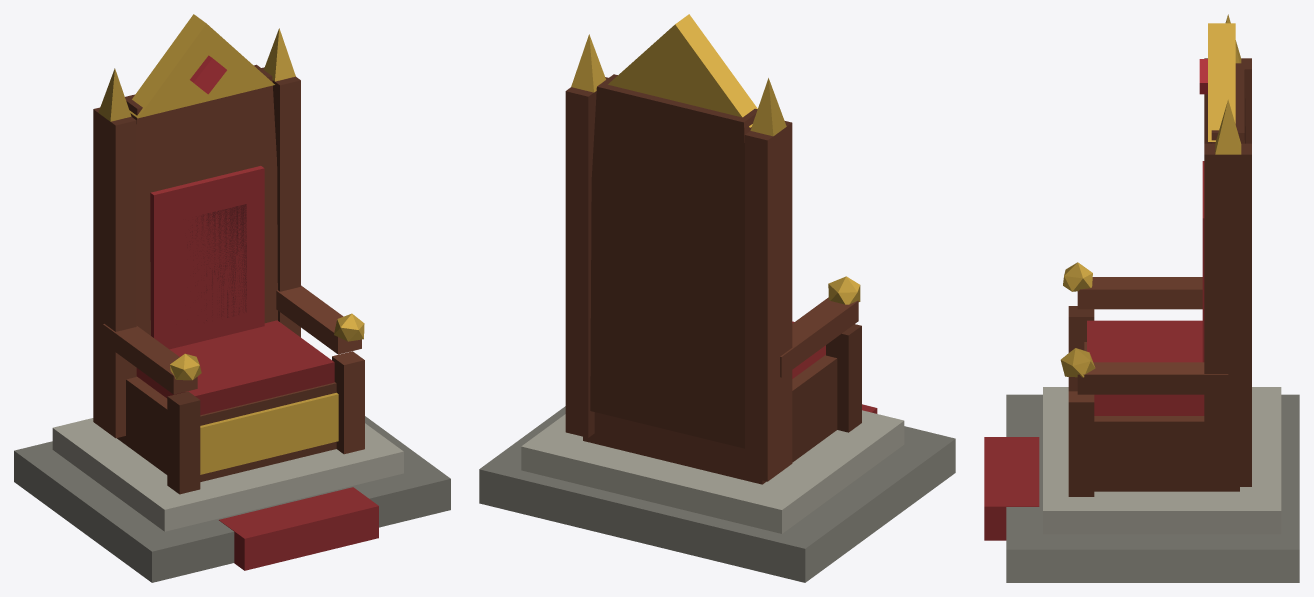
The model's file is throne.glb.
3 renders of one model, left to right at view 1: azimuth 30°, elevation 25°; view 2: azimuth 150°, elevation 25°; view 3: azimuth 270°, elevation 25°, orthographic. The views are drawn at different scales.
Visible parts, largest first — view 1: throne; view 2: throne; view 3: throne.
Boxes of the visible parts, x1=… form: throne: x1=14, y1=14, x2=450, y2=582; throne: x1=479, y1=14, x2=955, y2=582; throne: x1=984, y1=14, x2=1299, y2=582.
Bounding box in the file's own units: 2 × 2.9 × 1.72.
